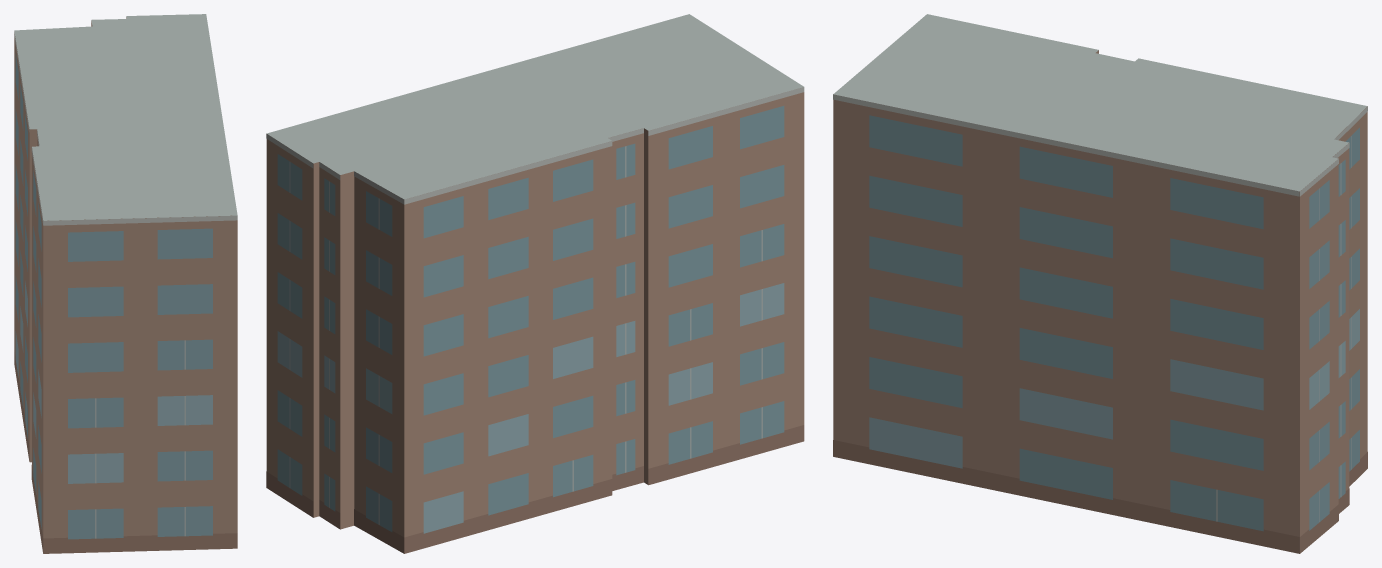
File: survey-upis-32593458.glb
The picture shows the model from 3 angles, left to right: view 1: azimuth 30°, elevation 25°; view 2: azimuth 150°, elevation 25°; view 3: azimuth 270°, elevation 25°; orthographic projection. The views are drawn at different scales.
Parts seen in each view (by area): view 1: survey-upis-32593458.tmp; view 2: survey-upis-32593458.tmp; view 3: survey-upis-32593458.tmp.
Part boxes in pixels (x1=…): survey-upis-32593458.tmp: x1=14, y1=14, x2=237, y2=553; survey-upis-32593458.tmp: x1=266, y1=14, x2=804, y2=553; survey-upis-32593458.tmp: x1=833, y1=14, x2=1367, y2=553.
Size of the model in its own units: 17.65 by 16.8 by 22.47.
